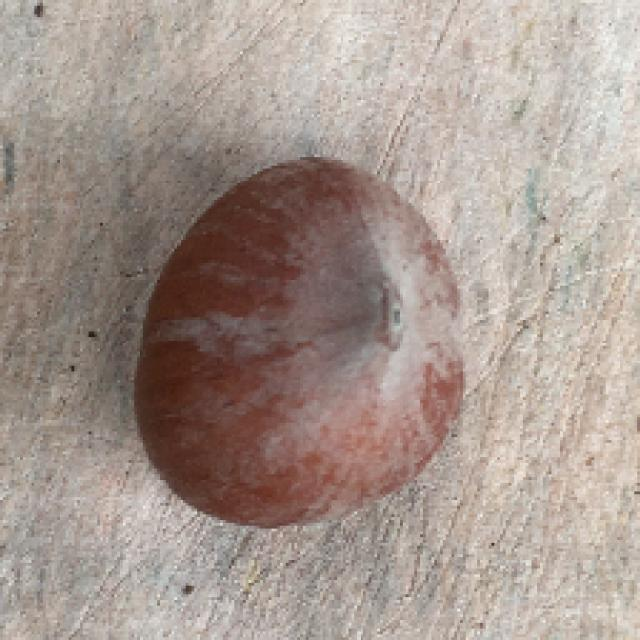qualityHazelnut: (129, 156, 468, 534)
